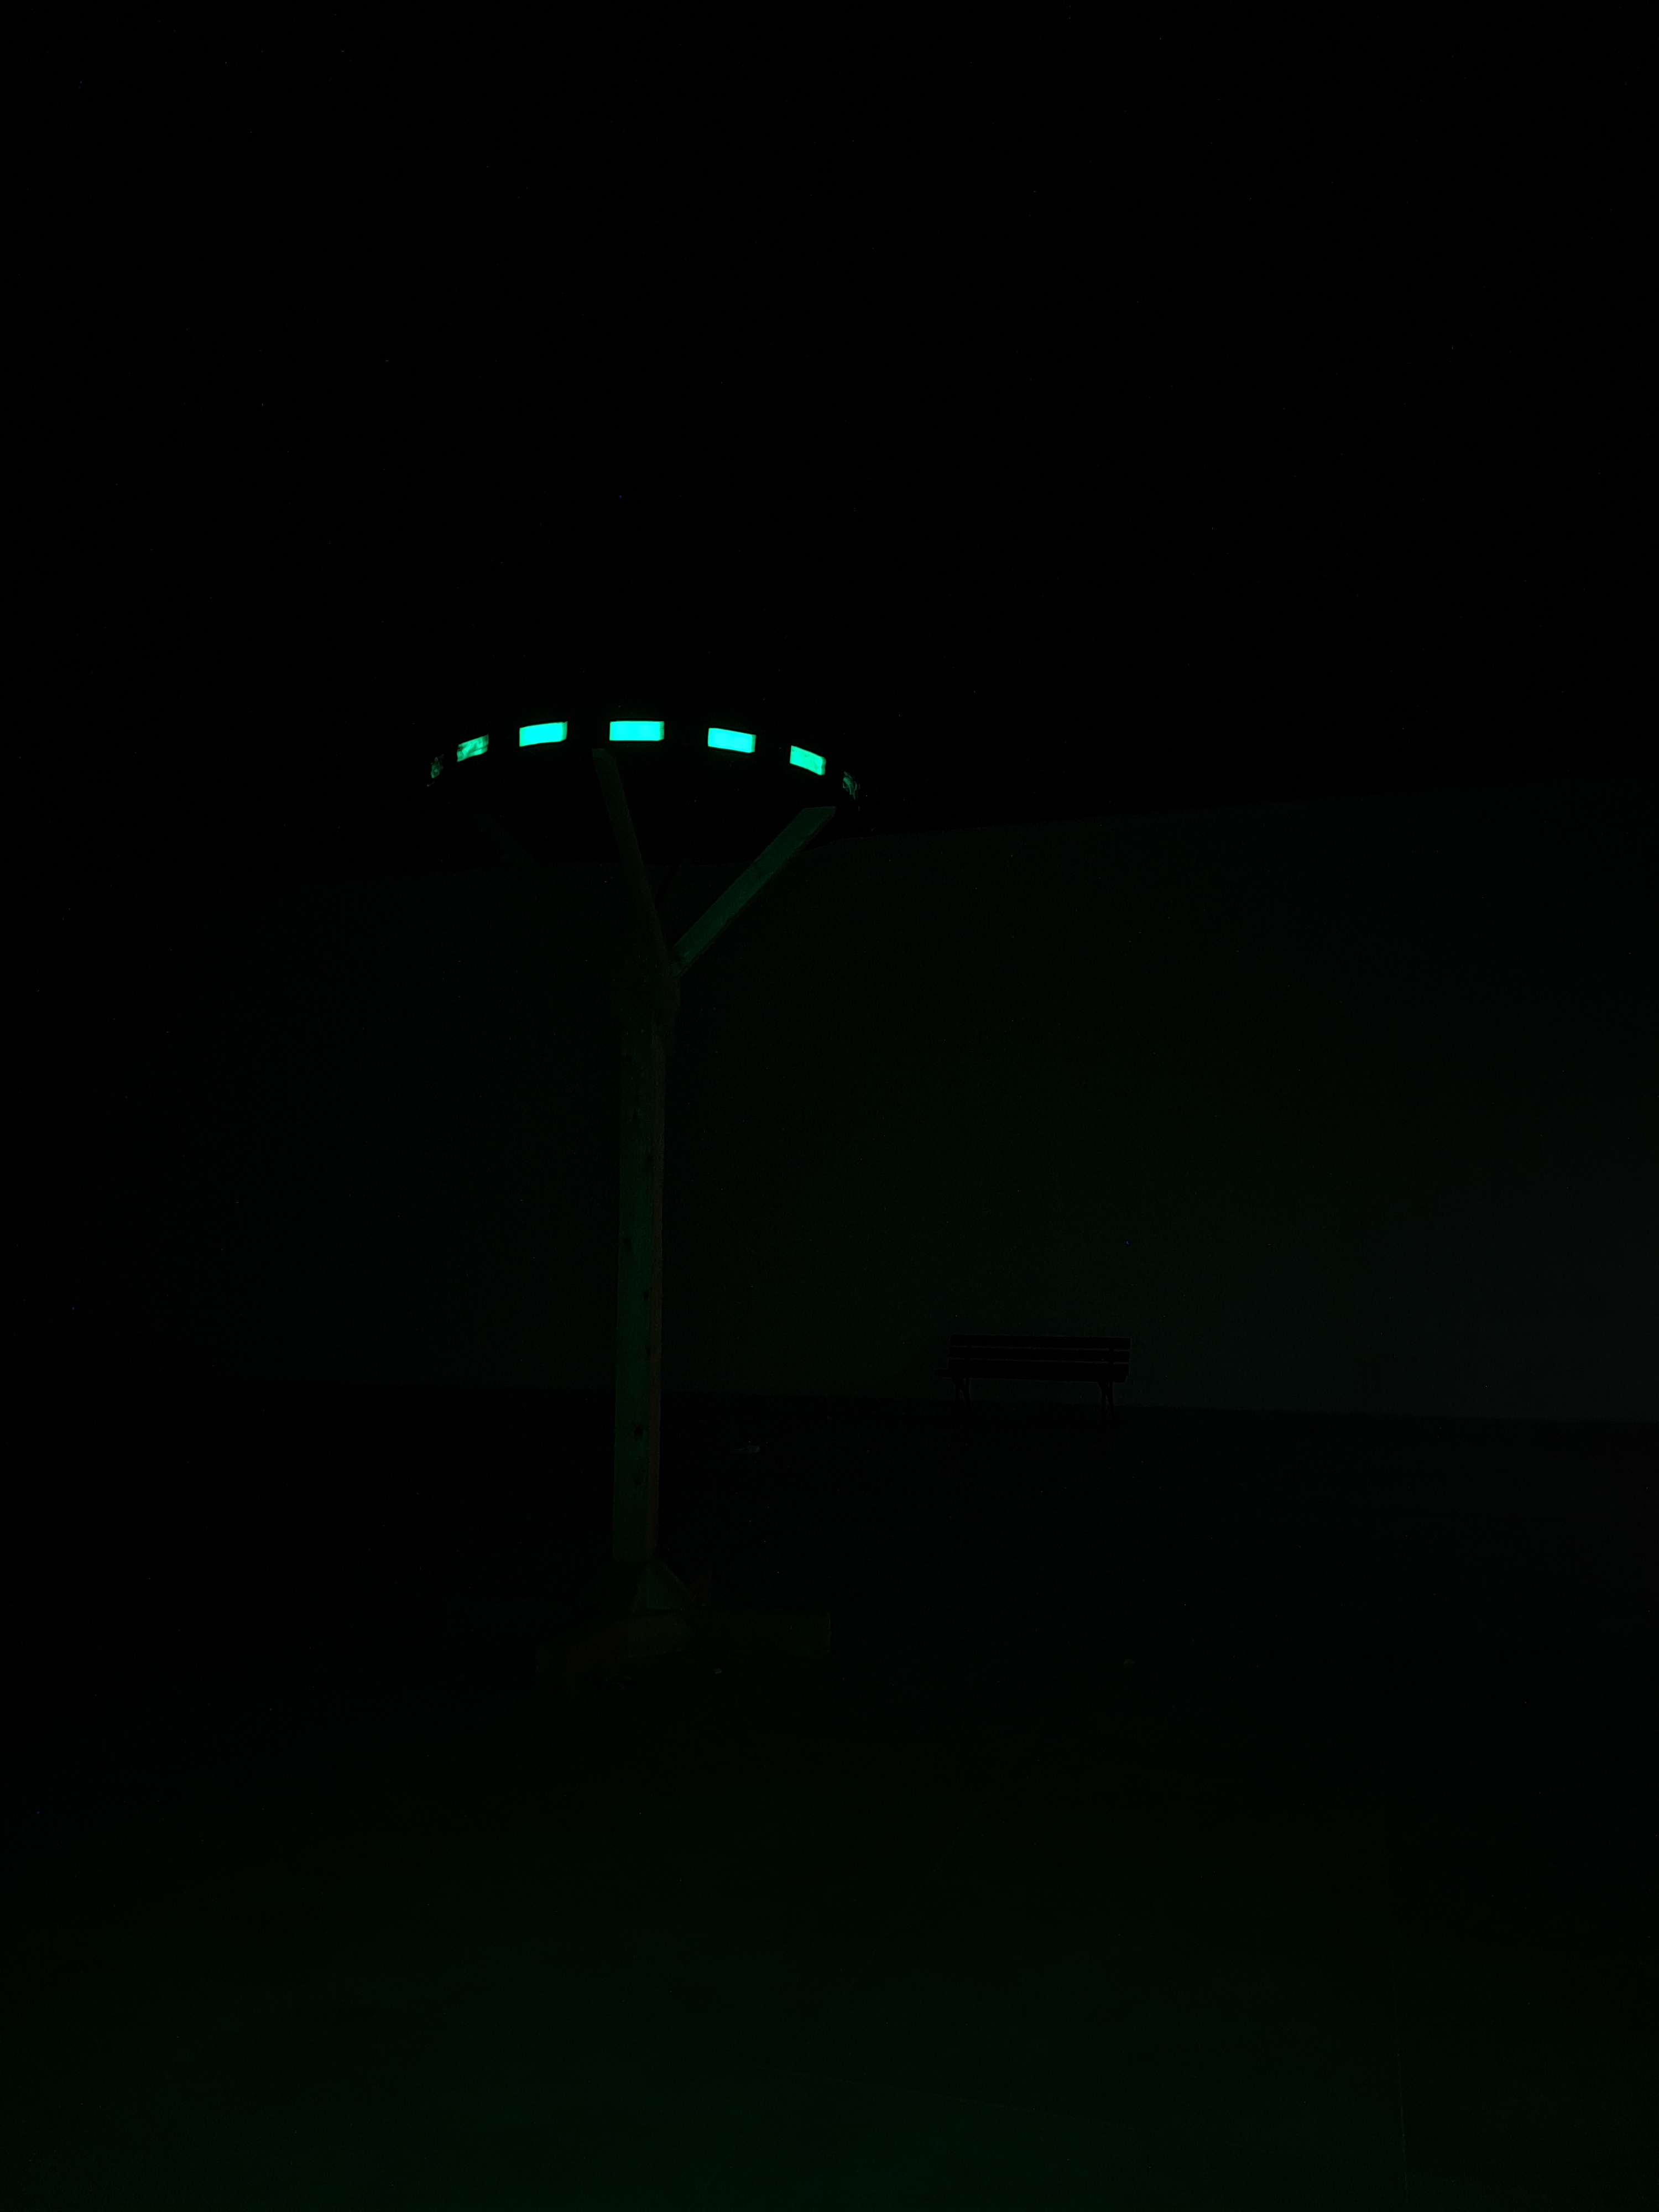hoop: (429, 723, 859, 808)
